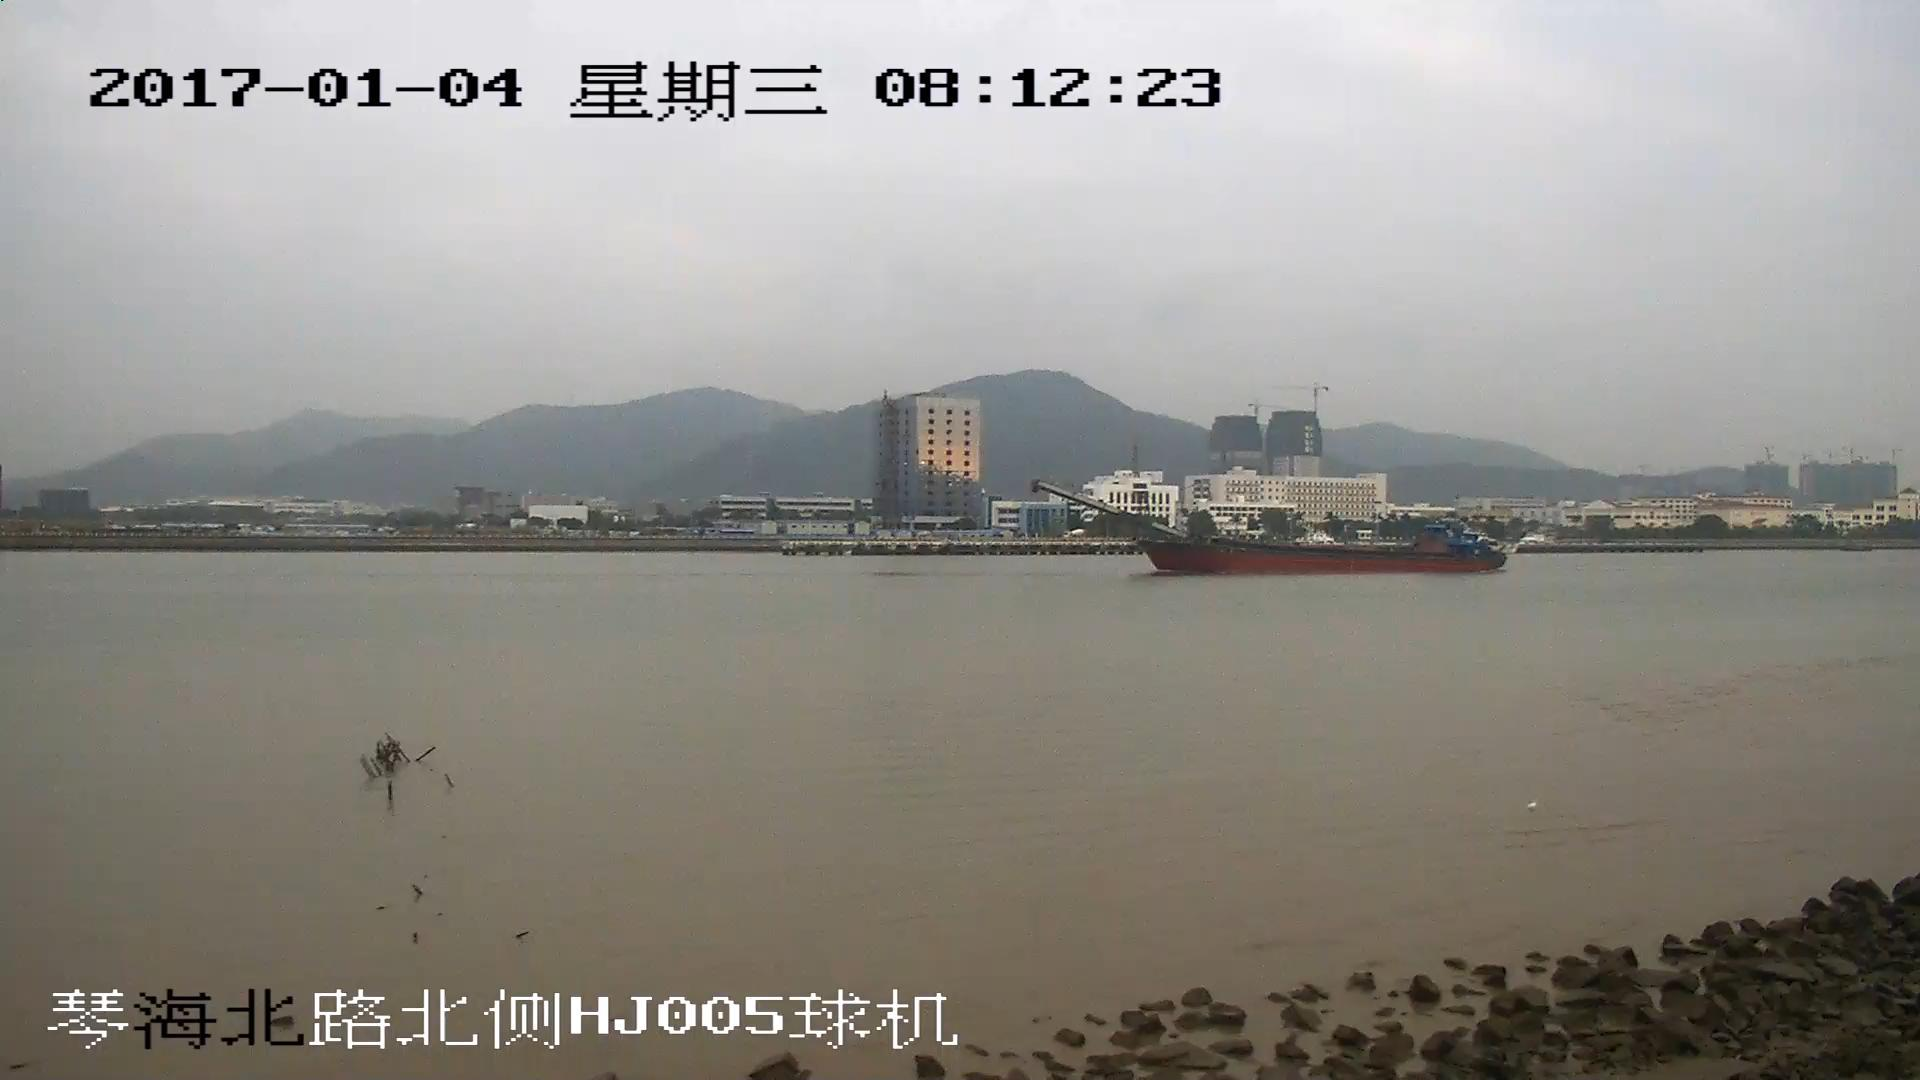Ship: (1038, 484, 1505, 574)
